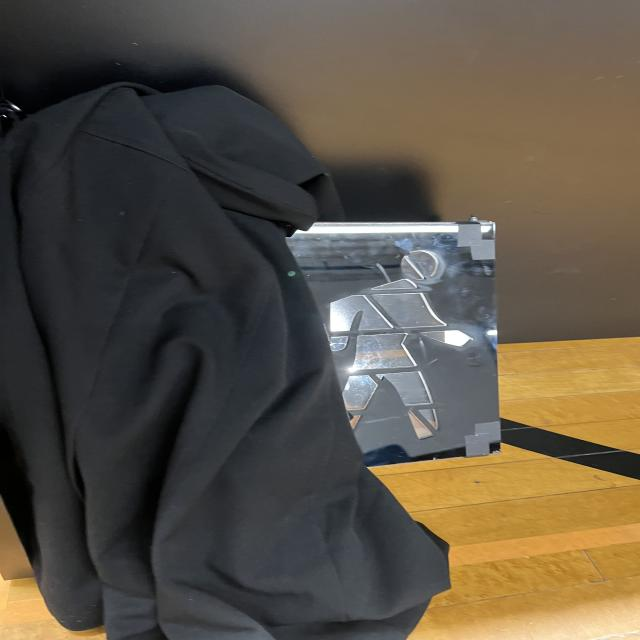go: (312, 243, 497, 454)
